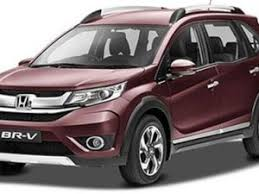Honda: (1, 5, 258, 183)
